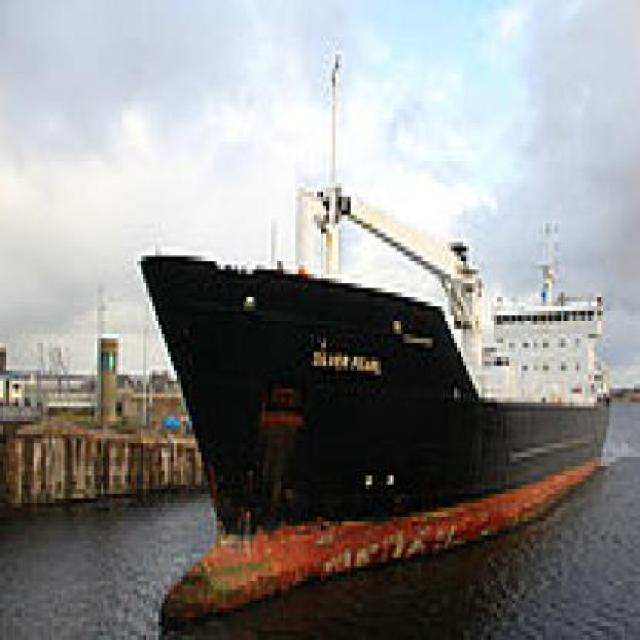container: (92, 42, 632, 628)
